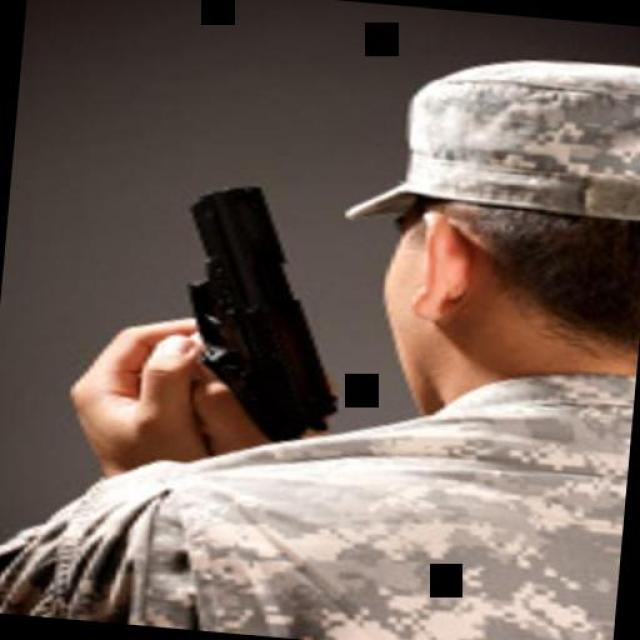gun: (109, 180, 382, 435)
